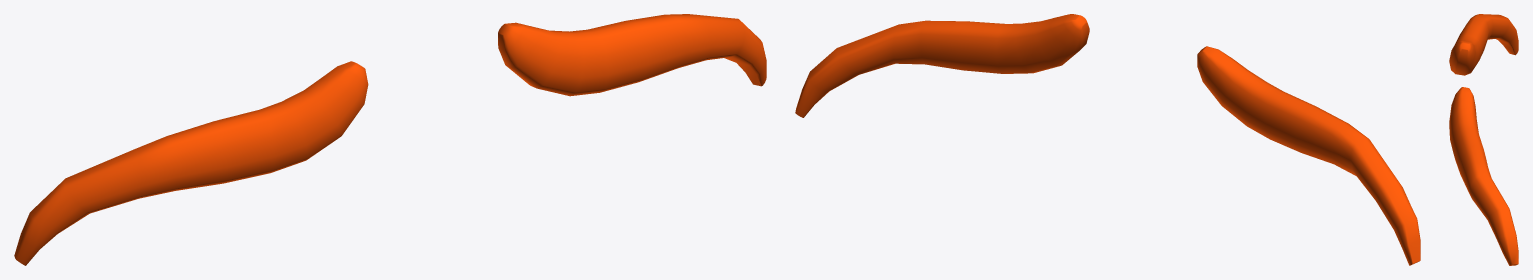
File: Eyebrows_22_06.fbx
3 renders of one model, left to right at view 1: azimuth 30°, elevation 25°; view 2: azimuth 150°, elevation 25°; view 3: azimuth 270°, elevation 25°, orthographic. The views are drawn at different scales.
Visible parts, largest first — view 1: Eyebrows_22_06; view 2: Eyebrows_22_06; view 3: Eyebrows_22_06.
Part boxes in pixels (<box>): Eyebrows_22_06: <box>14,14,766,265</box>; Eyebrows_22_06: <box>795,14,1420,265</box>; Eyebrows_22_06: <box>1449,14,1518,265</box>.
Bounding box in the file's own units: 18.69 × 3.84 × 2.54.
